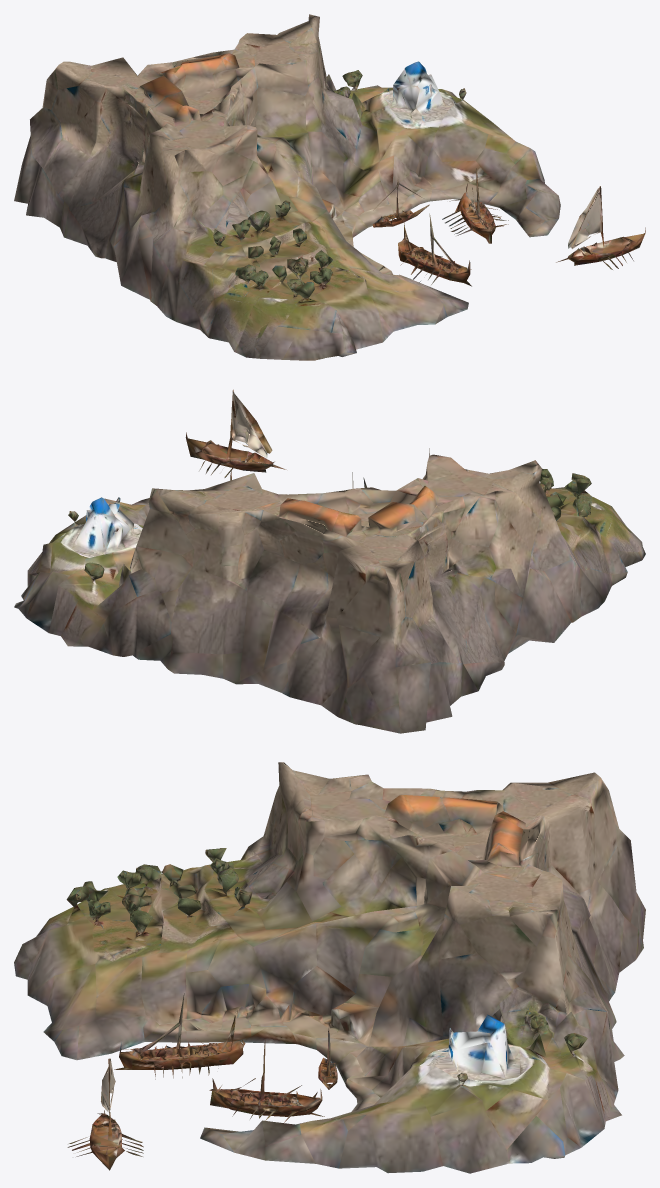
Rendered from m_gramvousa.glb.
The picture shows the model from 3 angles, top to bottom: view 1: azimuth 30°, elevation 25°; view 2: azimuth 150°, elevation 25°; view 3: azimuth 270°, elevation 25°; orthographic projection. The views are drawn at different scales.
Size of the model in its own units: 0.8502 by 0.2782 by 0.867.
1 material, 1 textured.
